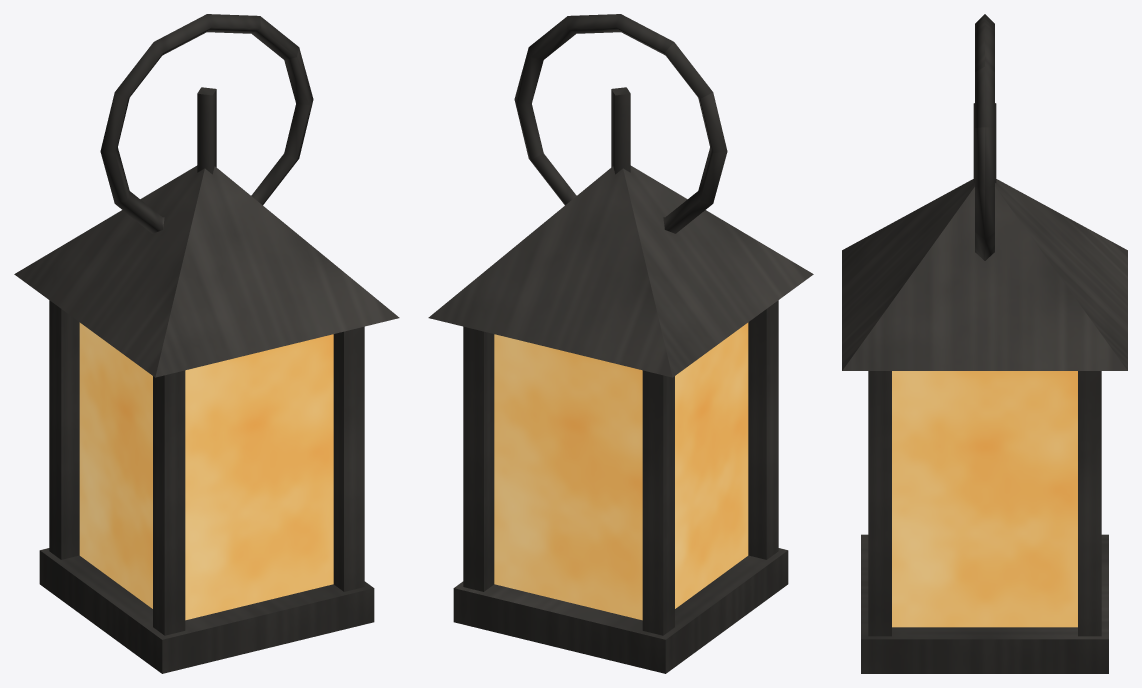
Rendered from hand_lantern.gltf.
3 renders of one model, left to right at view 1: azimuth 30°, elevation 25°; view 2: azimuth 150°, elevation 25°; view 3: azimuth 270°, elevation 25°, orthographic.
Parts seen in each view (by area): view 1: hand_lantern_mesh; view 2: hand_lantern_mesh; view 3: hand_lantern_mesh.
Boxes of the visible parts, x1=… form: hand_lantern_mesh: x1=14, y1=14, x2=399, y2=673; hand_lantern_mesh: x1=428, y1=14, x2=813, y2=673; hand_lantern_mesh: x1=842, y1=14, x2=1127, y2=673.
Size of the model in its own units: 0.225 by 0.518 by 0.225.
2 materials, 2 textured.
